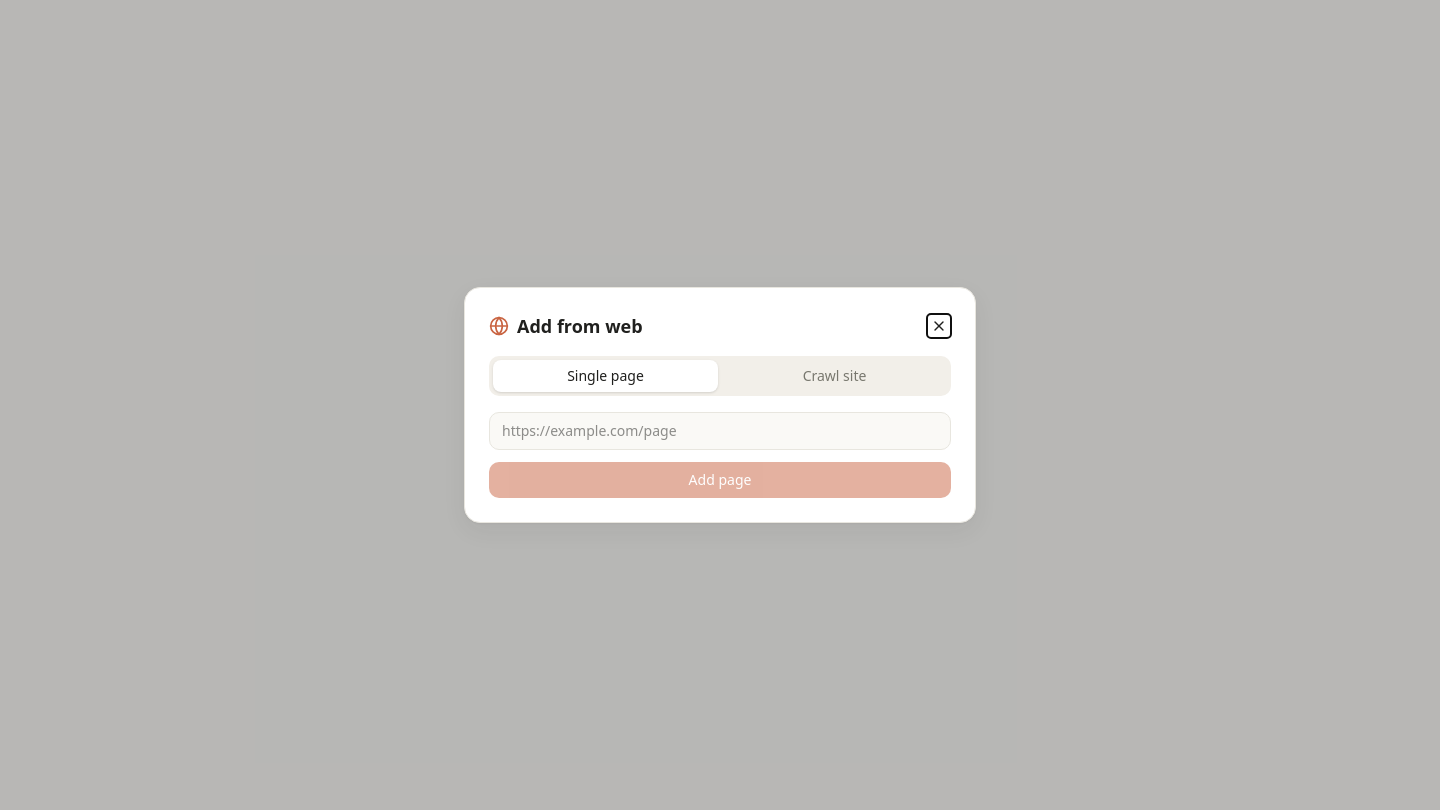
Test case: AddFromWebDialog › shows the no-key hint when map returns configured:false
The width and height of the screenshot is (1440, 810).
Click the tab "Crawl site".
click(834, 376)  # box top-left (722, 360), bottom-right (947, 392)
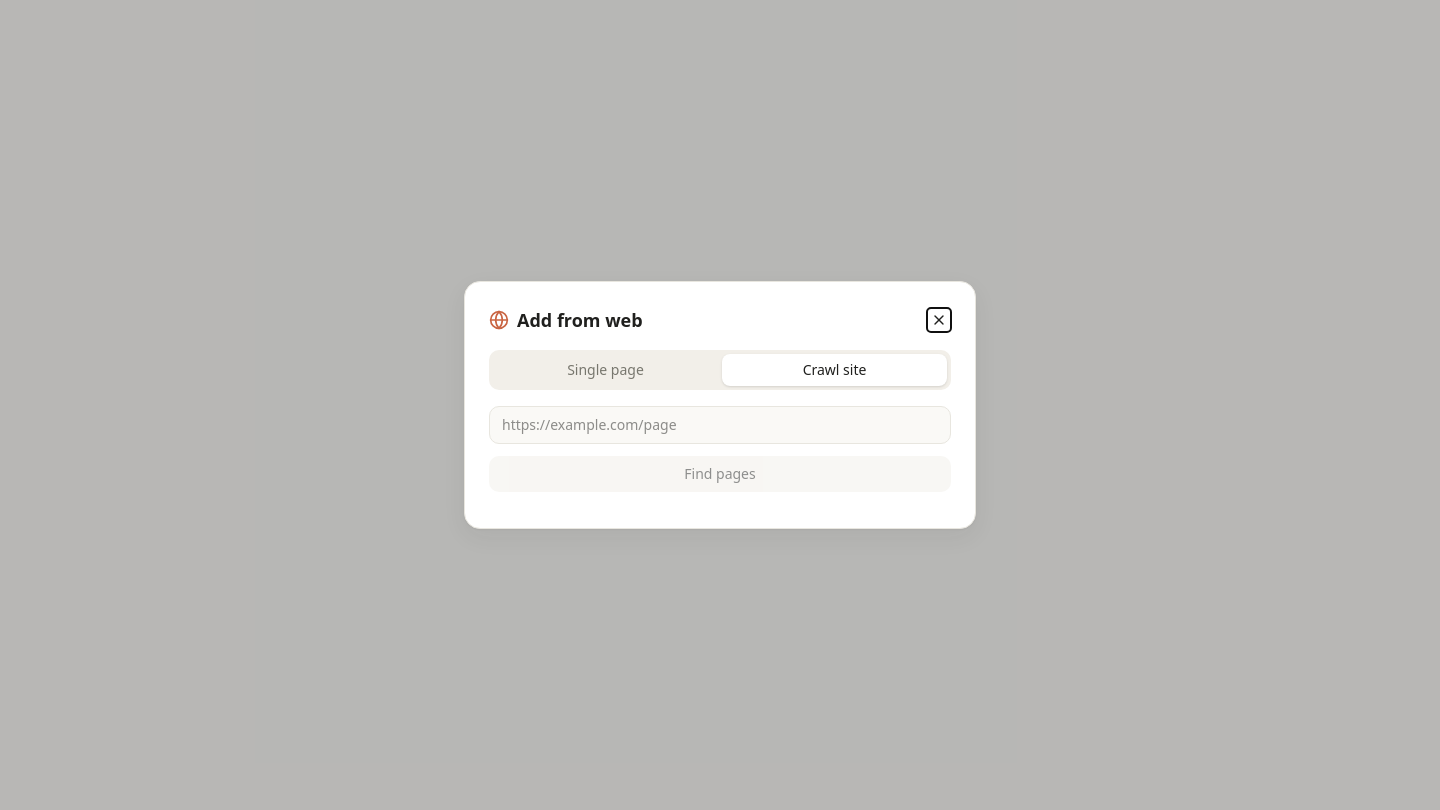
Type "https://x.com" into the field with placeholder "https://example.com/page".
click(720, 425); type("https://x.com")  # box top-left (489, 406), bottom-right (951, 444)
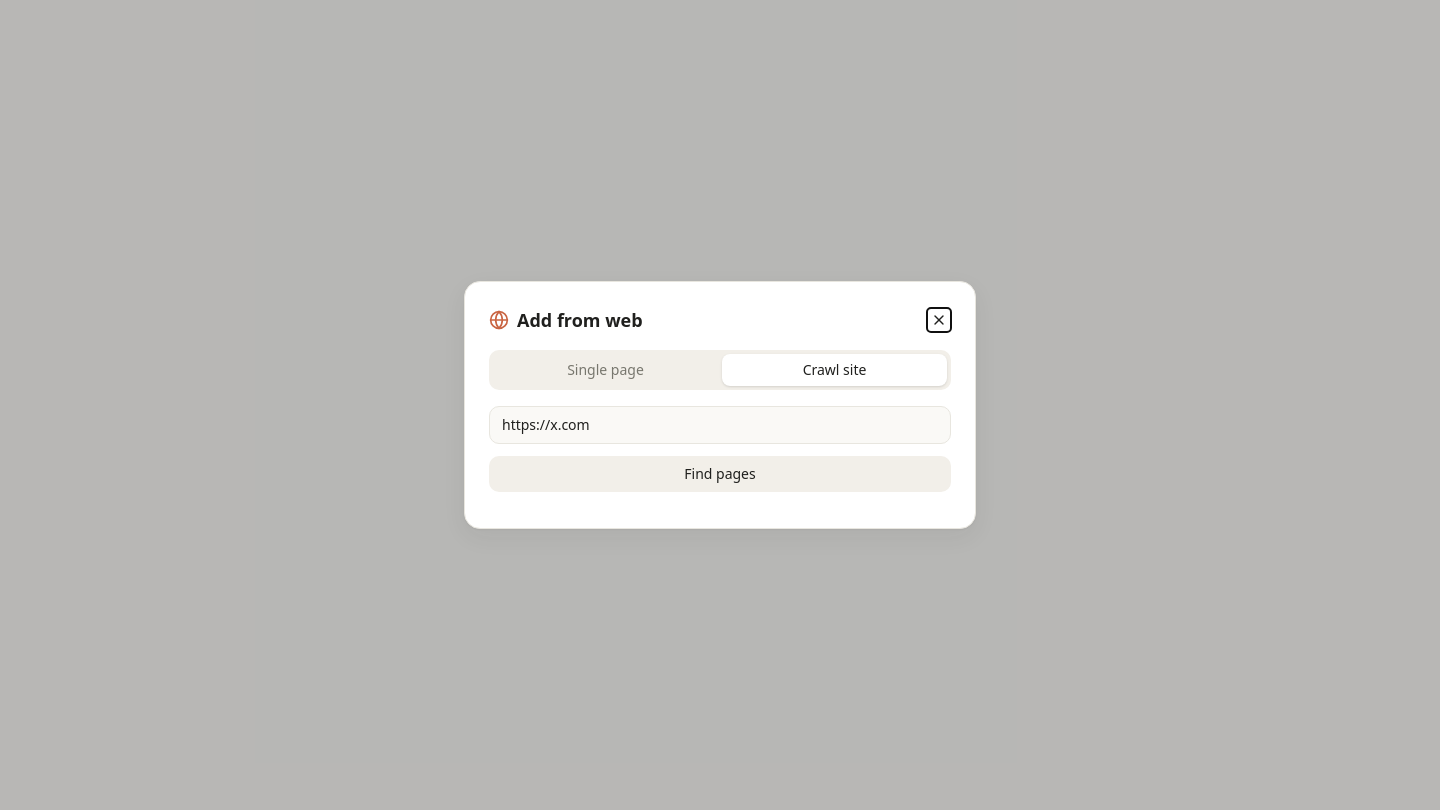
Click the button "Find pages".
click(720, 474)  # box top-left (489, 456), bottom-right (951, 492)
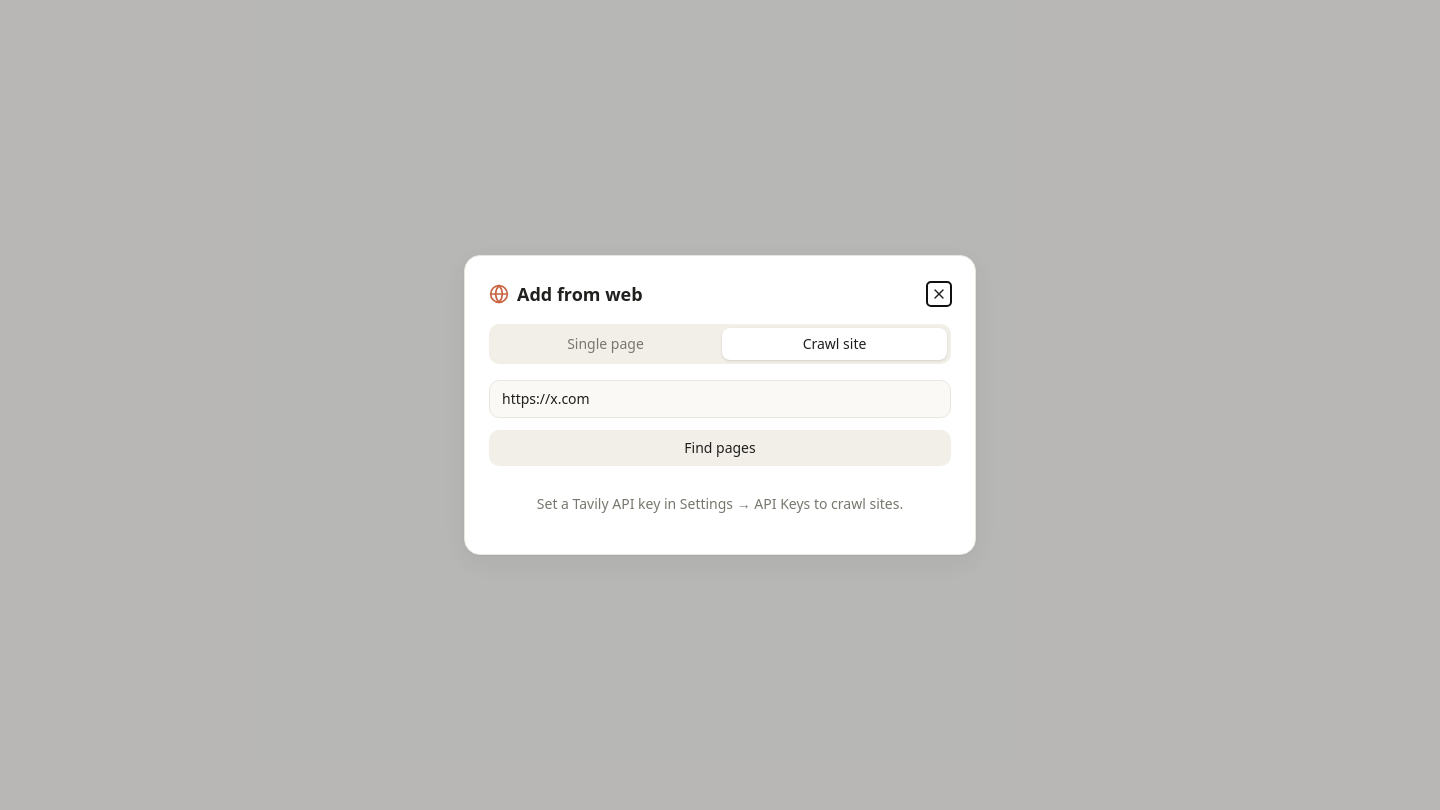
Check: the text "Set a Tavily API key in Settings → API Keys to crawl sites." is shown, box top-left (537, 494), bottom-right (903, 513)
